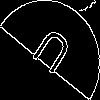U: (25, 25, 75, 84)
